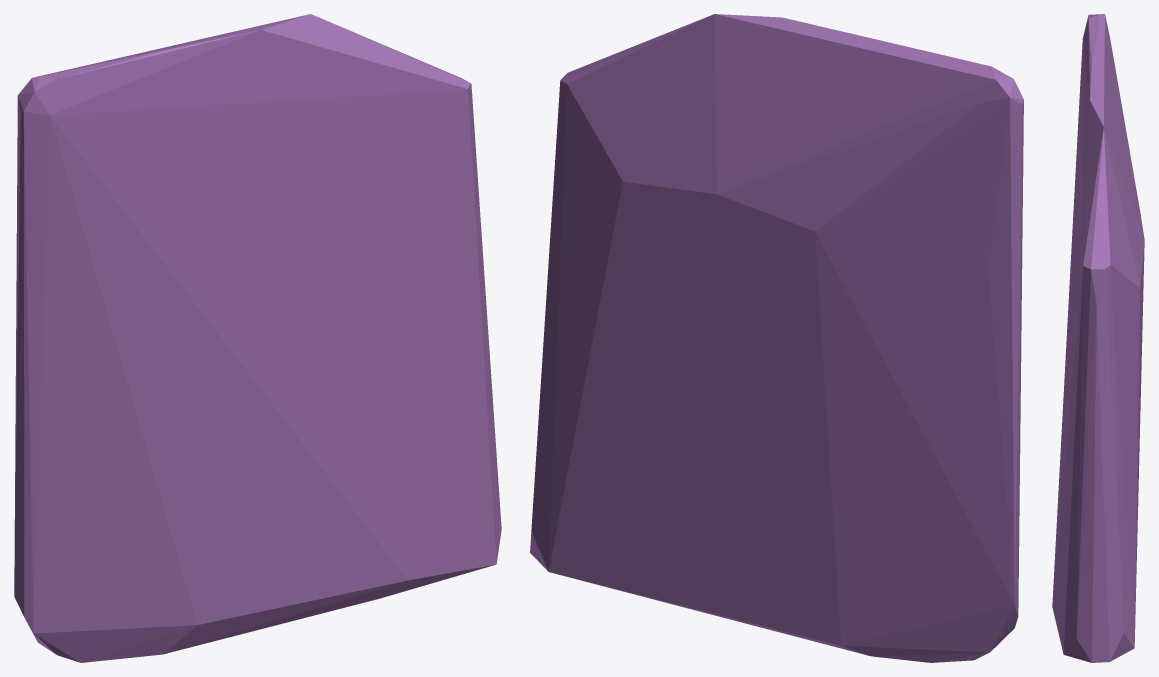
Rendered from serviceTool_compressor_valveSpring_a01.glb.
The picture shows the model from 3 angles, left to right: view 1: azimuth 30°, elevation 25°; view 2: azimuth 150°, elevation 25°; view 3: azimuth 270°, elevation 25°; orthographic projection. The views are drawn at different scales.
Visible parts, largest first — view 1: geometry_0; view 2: geometry_0; view 3: geometry_0.
Part boxes in pixels (x1,y1,x2,y2): geometry_0: (14,14,501,662); geometry_0: (530,14,1023,662); geometry_0: (1052,14,1144,662).
Bounding box in the file's own units: 0.4031 × 0.4798 × 0.0832.
